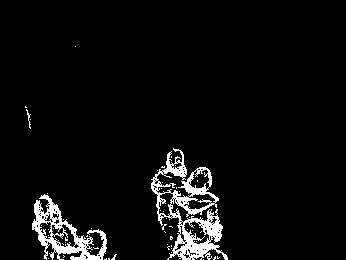person: (154, 148, 188, 233), (178, 168, 221, 225), (171, 220, 230, 260), (33, 198, 56, 247)
